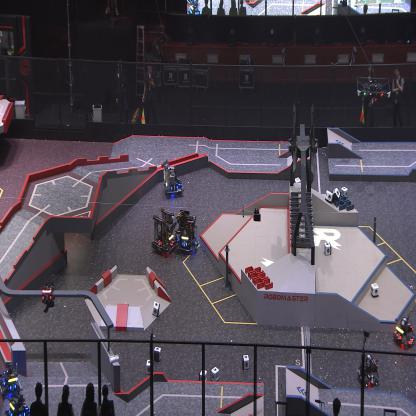car: (151, 206, 177, 256), (174, 207, 200, 254), (356, 352, 380, 389), (162, 157, 184, 196), (0, 361, 22, 396), (393, 315, 415, 348), (5, 394, 30, 416)
